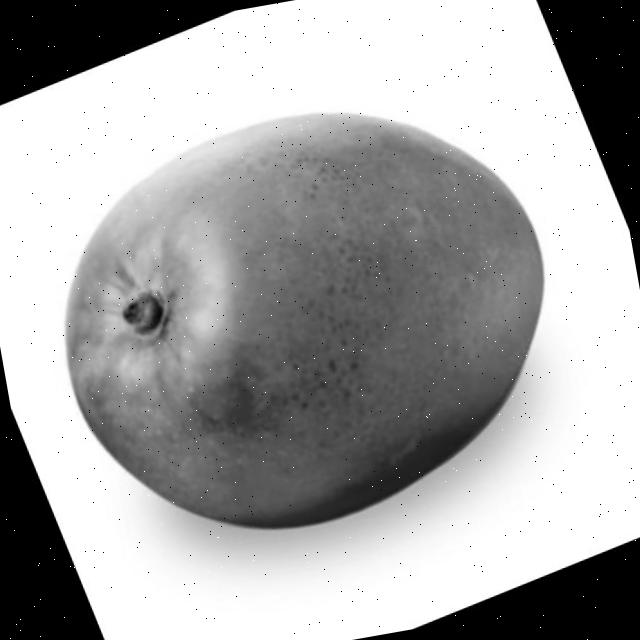mango: (65, 114, 544, 528)
